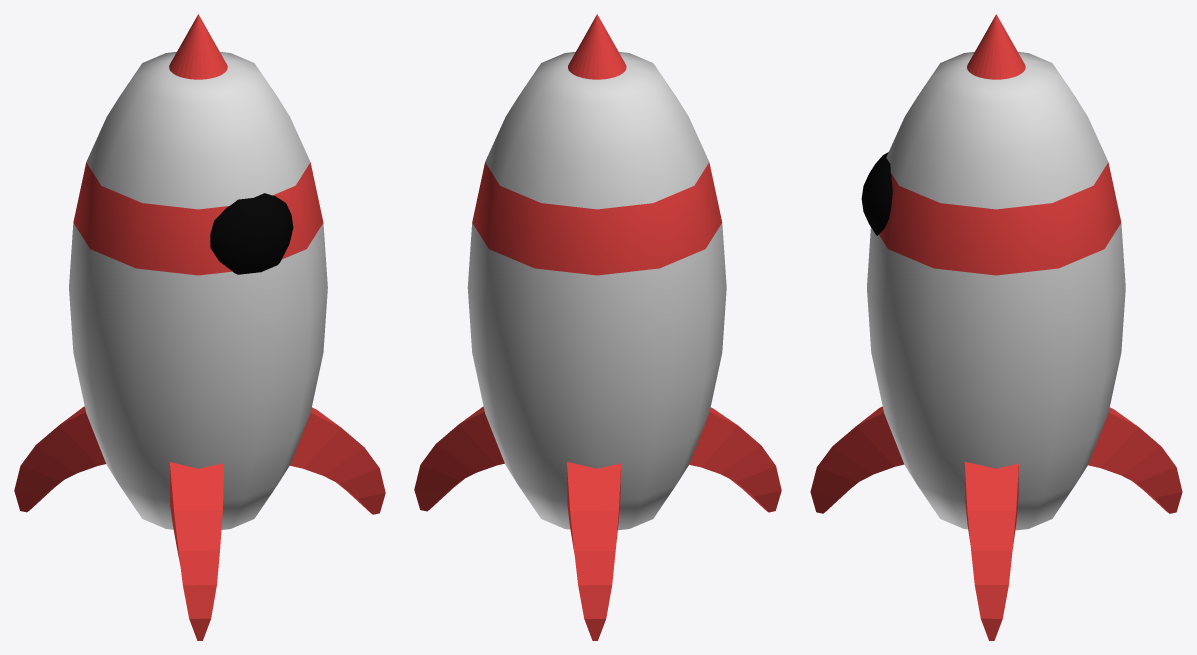
File: Rocket.fbx
The picture shows the model from 3 angles, left to right: view 1: azimuth 30°, elevation 25°; view 2: azimuth 150°, elevation 25°; view 3: azimuth 270°, elevation 25°; orthographic projection.
Visible parts, largest first — view 1: Sphere, Plane.001, Sphere.001, Plane, Plane.002, Cone; view 2: Sphere, Plane.002, Plane.001, Plane, Cone; view 3: Sphere, Plane, Plane.002, Plane.001, Cone, Sphere.001.
Part boxes in pixels (x1,y1,x2,y2): Sphere: [69, 52, 327, 529]; Plane.001: [169, 462, 223, 640]; Sphere.001: [210, 193, 293, 274]; Plane: [290, 407, 385, 514]; Plane.002: [14, 406, 105, 512]; Cone: [169, 14, 227, 79]; Sphere: [467, 52, 726, 530]; Plane.002: [566, 462, 620, 640]; Plane.001: [689, 407, 781, 512]; Plane: [414, 406, 504, 511]; Cone: [568, 14, 626, 79]; Sphere: [867, 52, 1125, 530]; Plane: [964, 461, 1018, 640]; Plane.002: [1088, 407, 1182, 513]; Plane.001: [810, 406, 904, 513]; Cone: [967, 14, 1025, 79]; Sphere.001: [861, 152, 892, 235].
Size of the model in its own units: 260 by 460 by 287.
